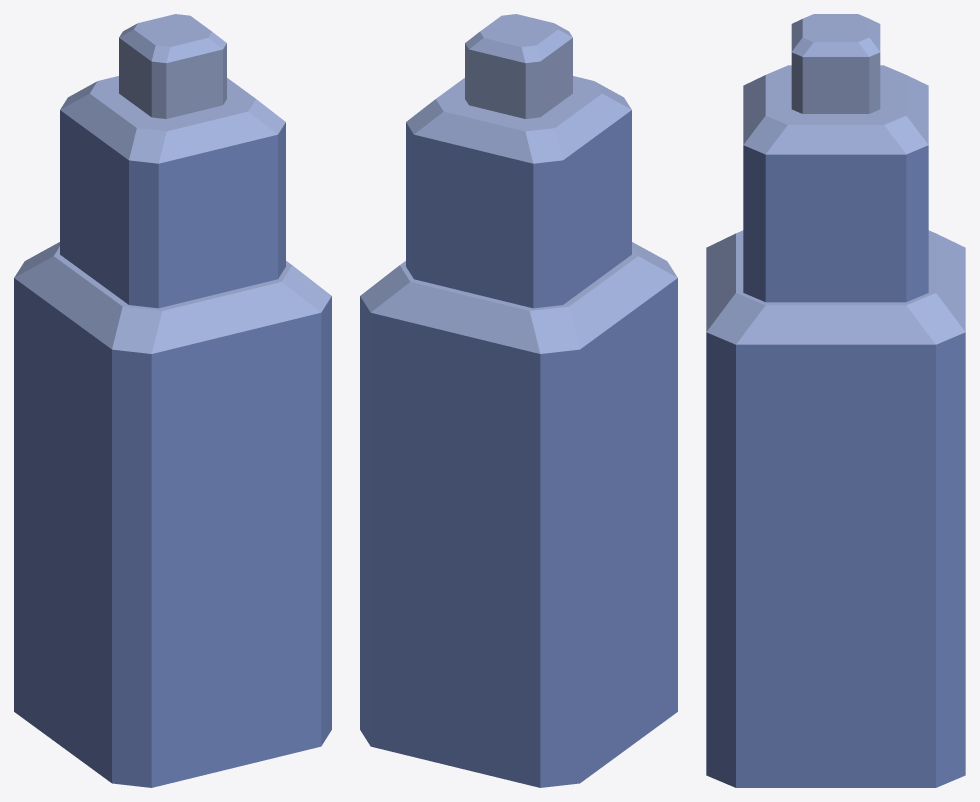
Rendered from Building1.glb.
The picture shows the model from 3 angles, left to right: view 1: azimuth 30°, elevation 25°; view 2: azimuth 150°, elevation 25°; view 3: azimuth 270°, elevation 25°; orthographic projection. The views are drawn at different scales.
Visible parts, largest first — view 1: Building1; view 2: Building1; view 3: Building1.
Part boxes in pixels (left/top/right/bottom): Building1: left=14, top=14, right=331, bottom=787; Building1: left=360, top=14, right=677, bottom=787; Building1: left=706, top=14, right=965, bottom=787.
Size of the model in its own units: 7 by 21 by 7.
